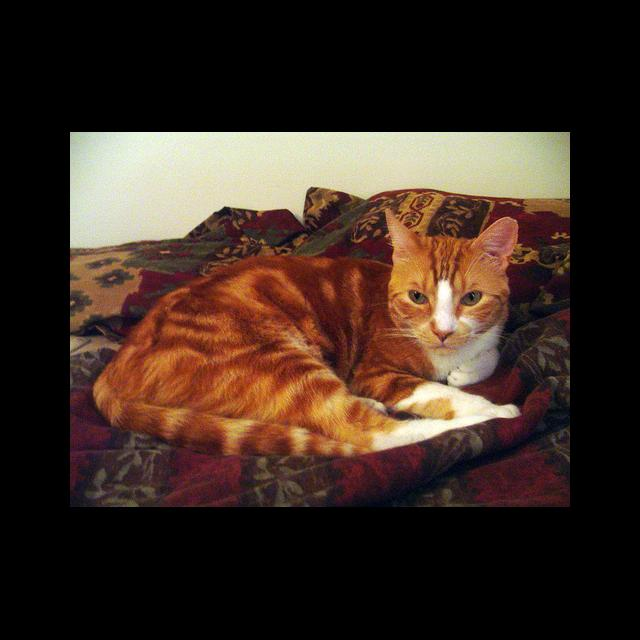animals: (388, 210, 513, 340)
